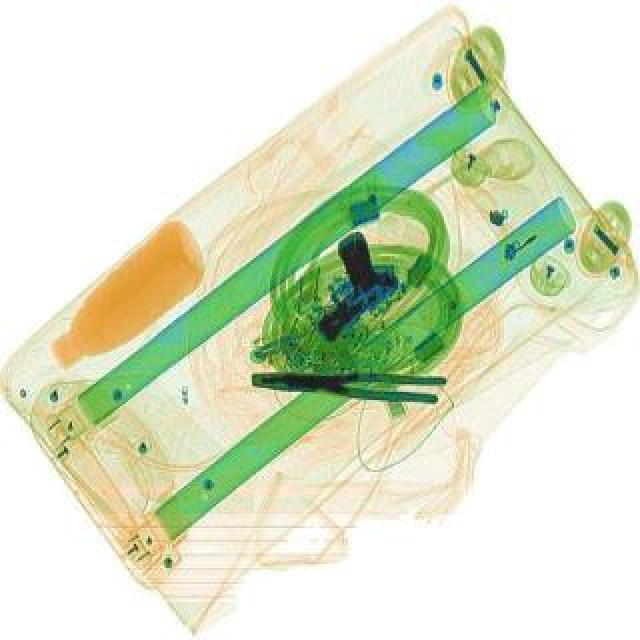gun: (278, 226, 408, 342)
wrench: (248, 364, 444, 402)
